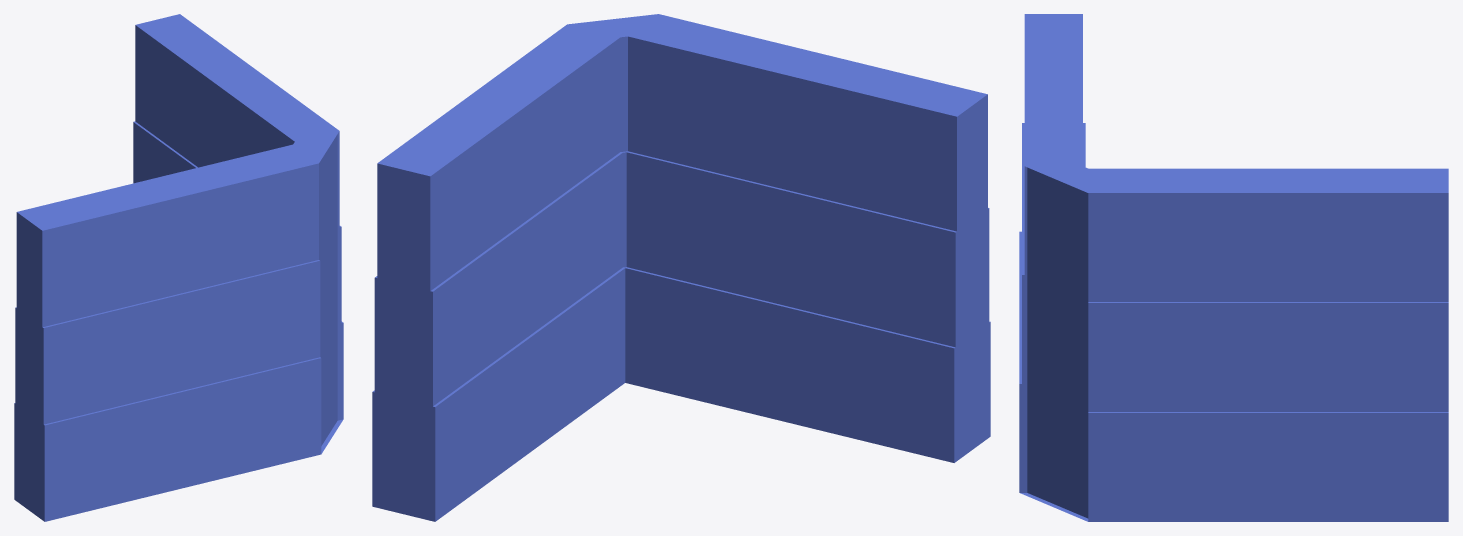
Rendered from Wall_Style_2_Corner.fbx.
3 views of the same model, side by side, from view 1: azimuth 30°, elevation 25°; view 2: azimuth 150°, elevation 25°; view 3: azimuth 270°, elevation 25° (orthographic). The views are drawn at different scales.
Parts seen in each view (by area): view 1: Wall Style 2 Corner; view 2: Wall Style 2 Corner; view 3: Wall Style 2 Corner.
Boxes of the visible parts, x1,y1,x2,y2 form: Wall Style 2 Corner: (14, 14, 343, 521); Wall Style 2 Corner: (372, 14, 990, 521); Wall Style 2 Corner: (1019, 14, 1448, 521).
Bounding box in the file's own units: 119 × 100 × 119.
